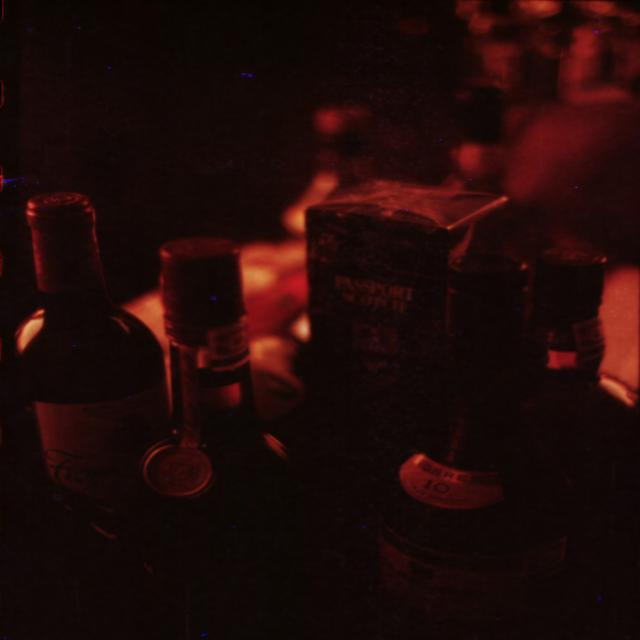Bottle: (122, 230, 328, 640), (324, 323, 590, 633), (0, 184, 171, 534), (268, 93, 399, 243), (539, 249, 610, 415)
